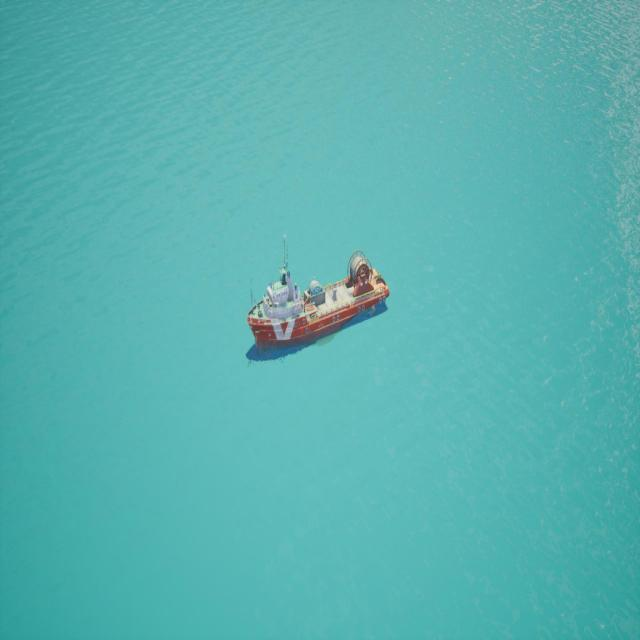tug boat: (247, 236, 391, 365)
